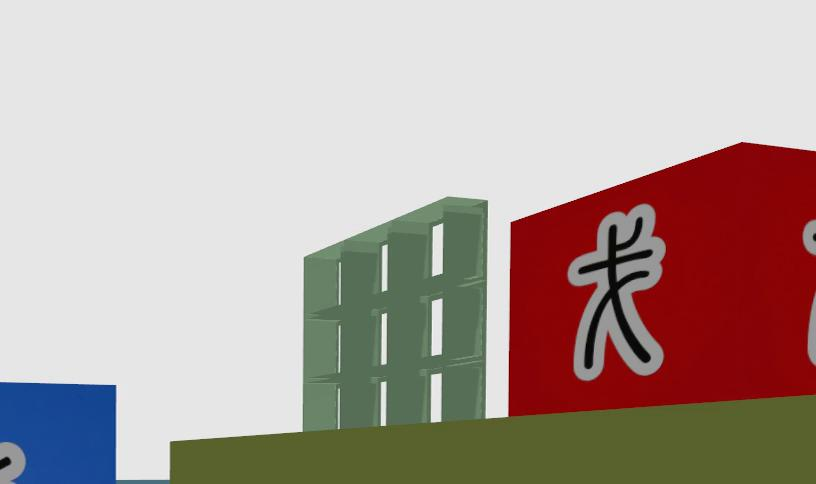KFS_FAKE: (508, 143, 815, 415), (569, 204, 665, 381)
KFS_REAL: (0, 384, 114, 484), (0, 440, 25, 484)
